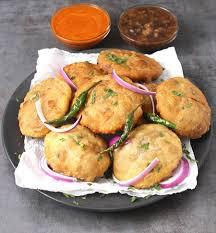kachori: (14, 51, 216, 229)
